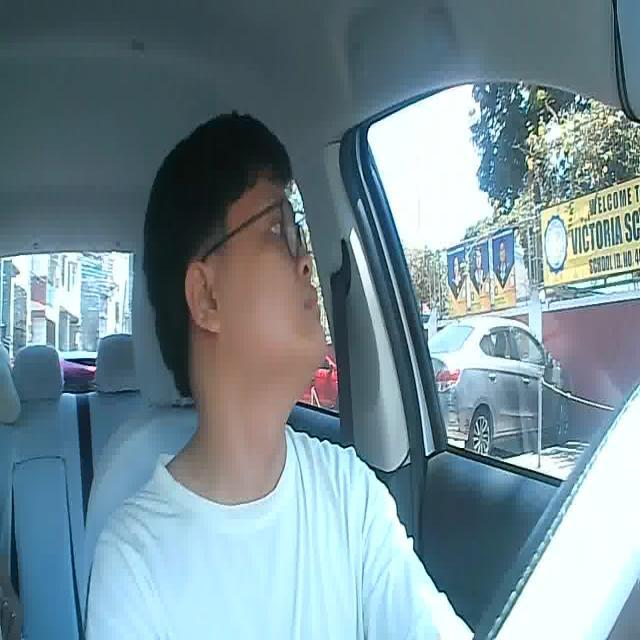Eye-Open: (268, 216, 290, 240)
Inattentive: (140, 111, 334, 369)
Normal: (299, 285, 320, 321)
